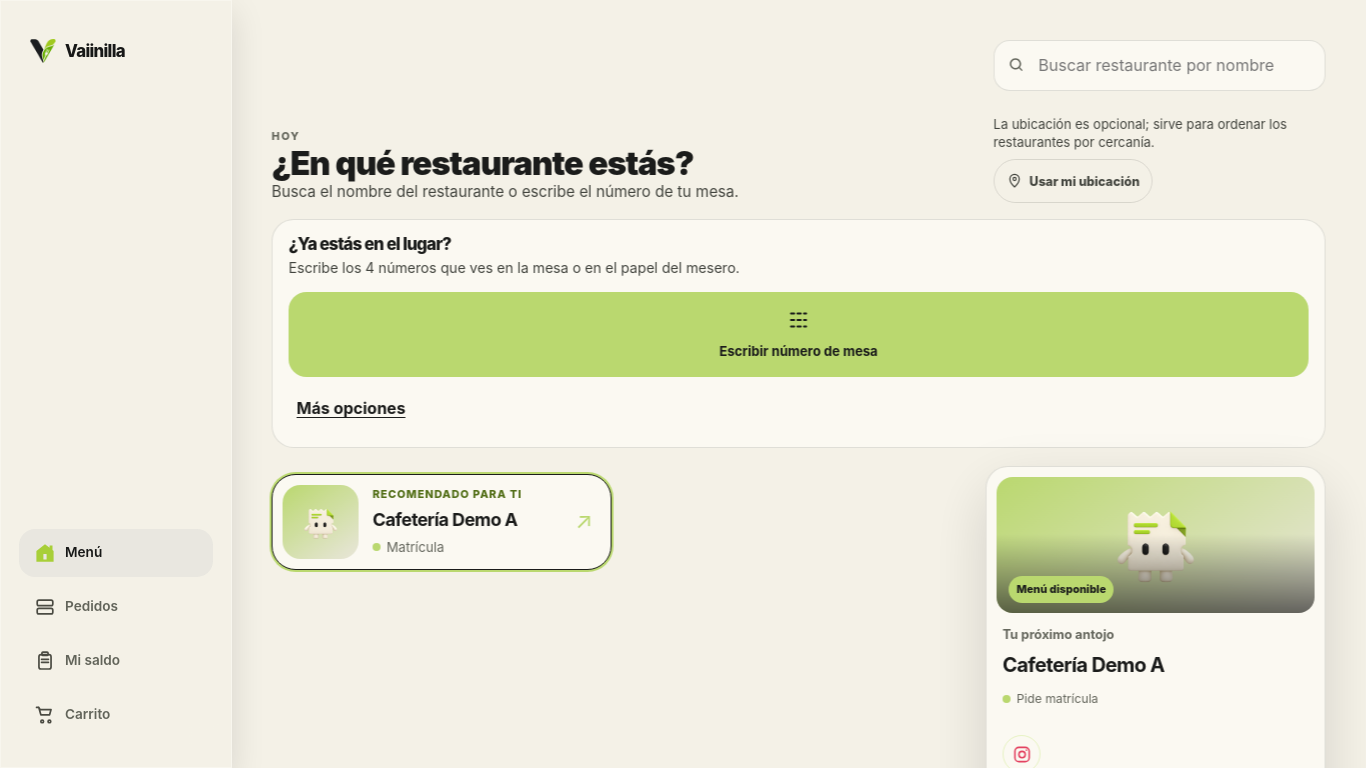
Test case: DiscoveryPage › mantiene cámara y NFC disponibles como opciones secundarias
Expected: the button "Escribir número de mesa" is shown, x1=289 y1=292 x2=1309 y2=377
Expected: the button "usar cámara" is not shown
Click the button "Más opciones": {"x": 351, "y": 409} x1=289 y1=387 x2=414 y2=431
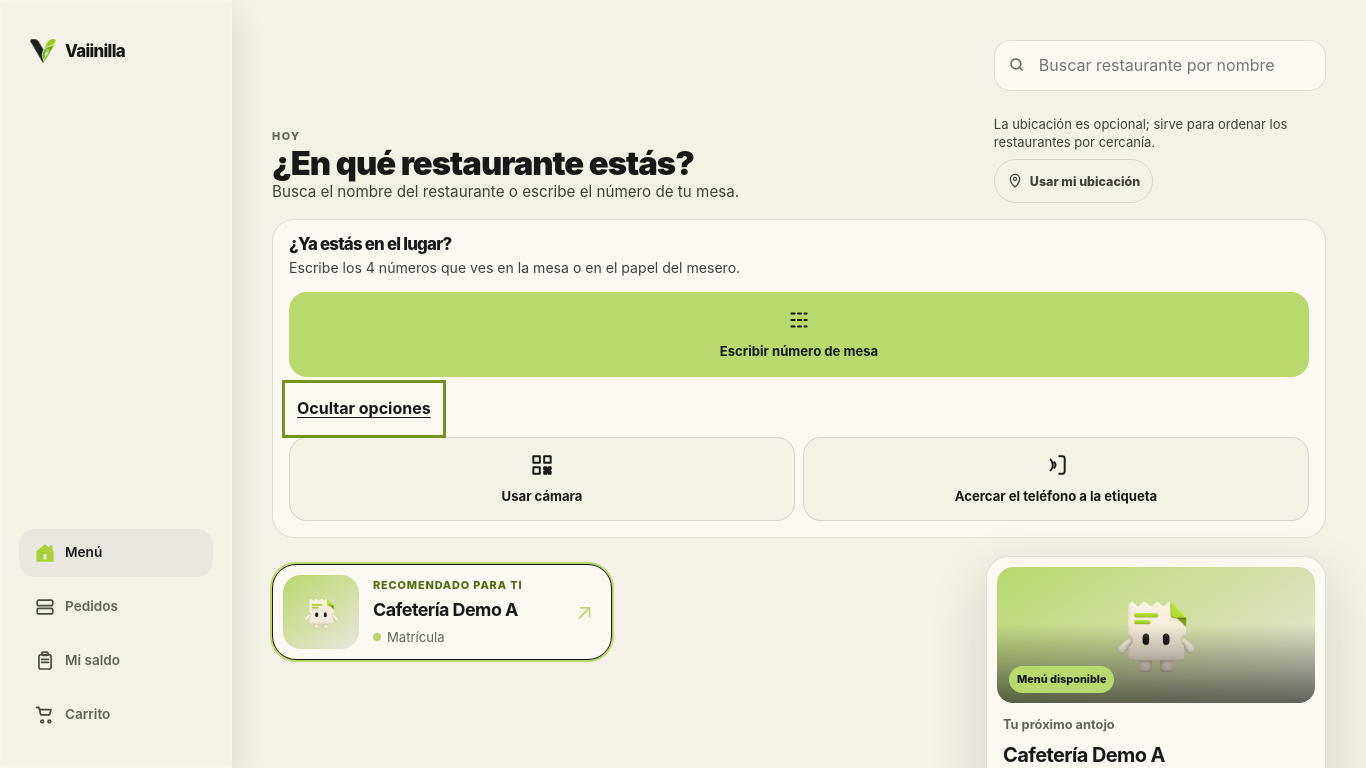
Expected: the button "Usar cámara" is shown, x1=289 y1=437 x2=795 y2=521
Expected: the button "Acercar el teléfono a la etiqueta" is shown, x1=803 y1=437 x2=1309 y2=521
